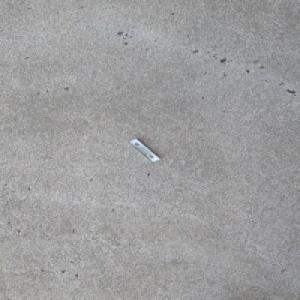ClampPart: (126, 137, 161, 163)
